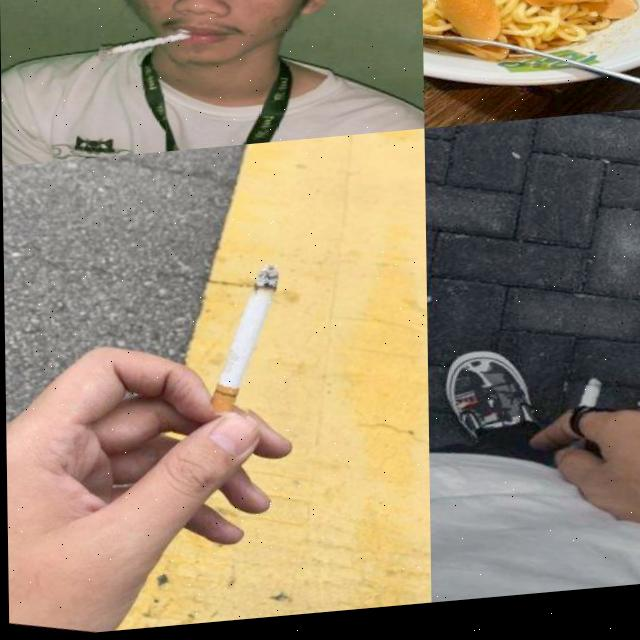cigarette: (208, 269, 280, 415), (105, 33, 191, 58), (576, 387, 600, 419)
